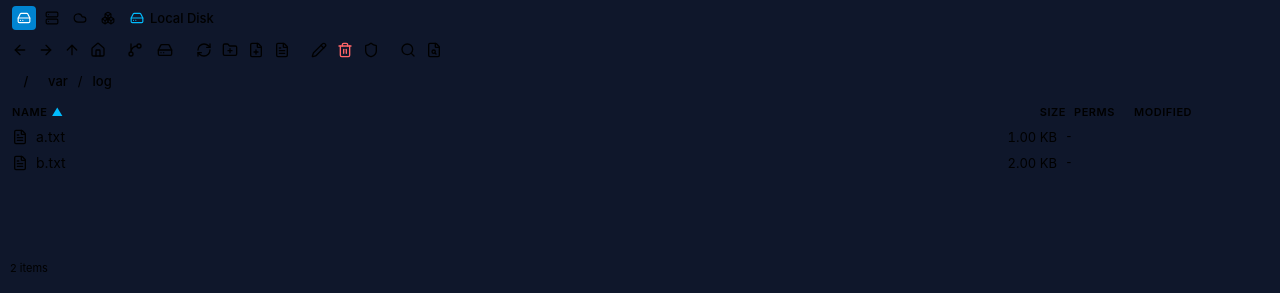
Test: FilePane Home Button › shows item count, selection count, and selected size in the status bar (§24)
This screenshot has width=1280, height=293.
Check: the text "2 items" is shown, box [10,260,48,276]
Step 1. Click the text "a.txt" → click(50, 137), box [36,127,65,147]
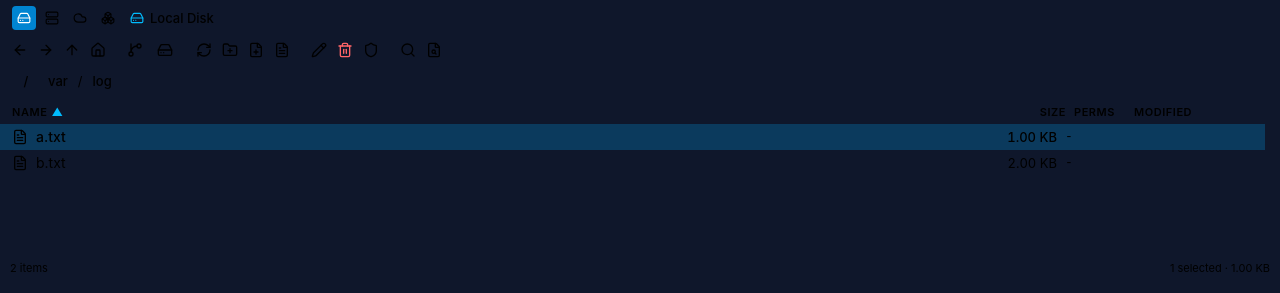
Check: the text "1 selected · 1.00 KB" is shown, box [1170,260,1270,276]
